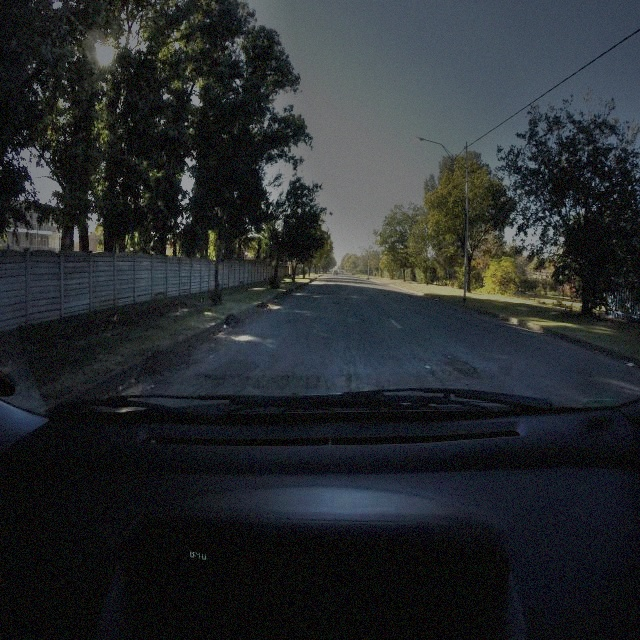pothole: (447, 356, 479, 381), (278, 374, 291, 385), (343, 371, 352, 386)
